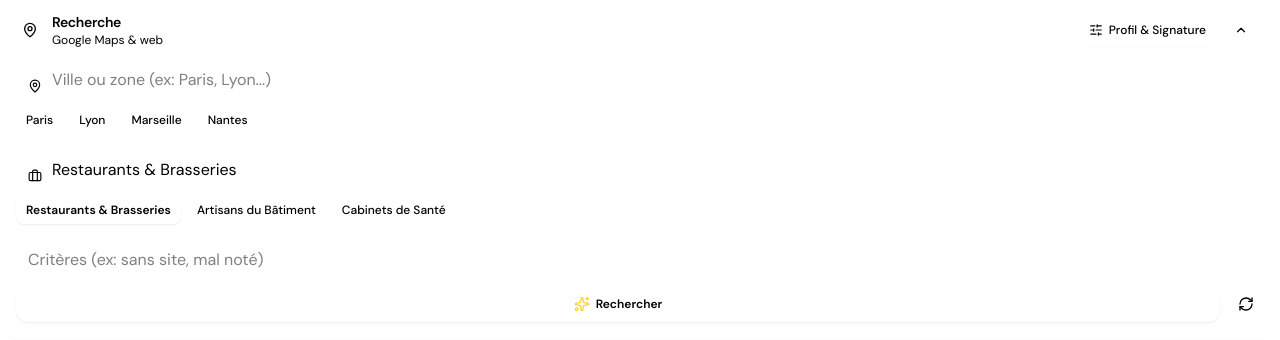
Test case: Component - SearchPanel Integration › updates city value and closes dropdown when suggestion is clicked
Step 1. Type "Lyo" into the field labelled "Ville ou zone" → point(640, 79), box [16,60,1264,98]
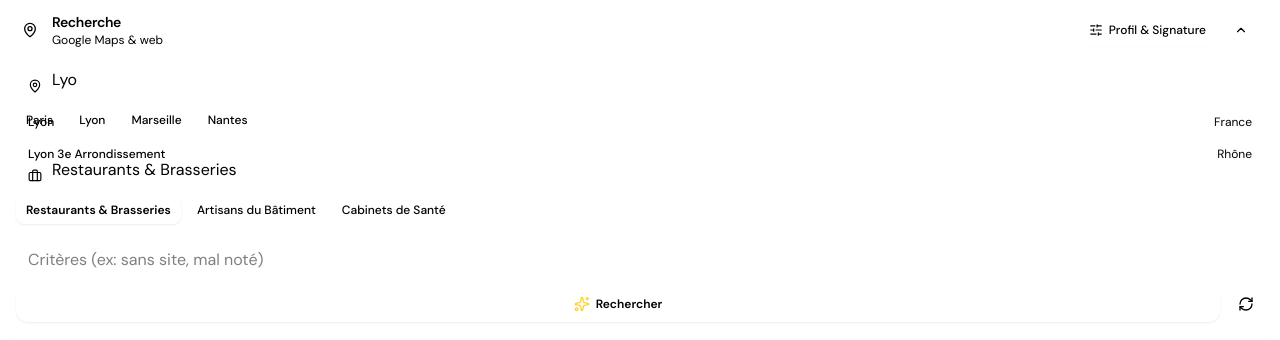
Check: the text "Lyon 3e Arrondissement" is shown
Note: Click on suggestion
Step 2. Click the text "Lyon 3e Arrondissement" → point(97, 154), box [28,146,165,162]
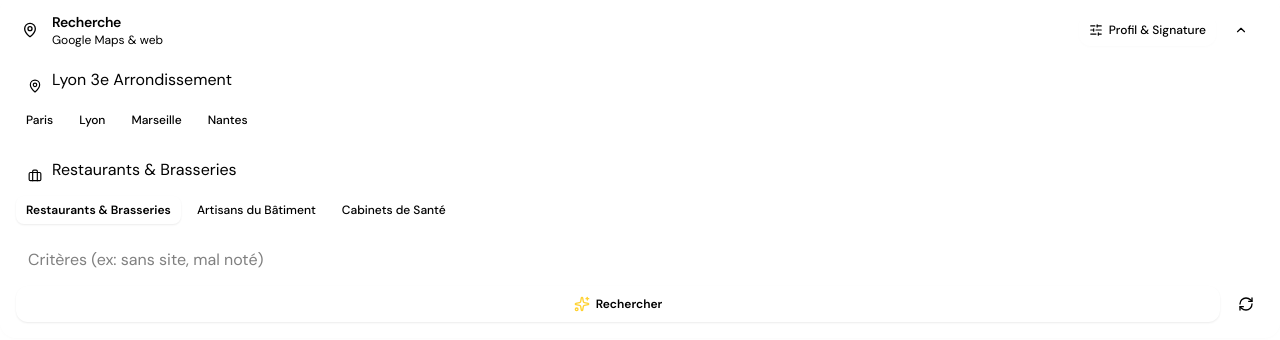
Check: the 1st field named "Ville ou zone" holds "Lyon 3e Arrondissement", box [16,60,1264,98]
Check: the button "France" is gone
